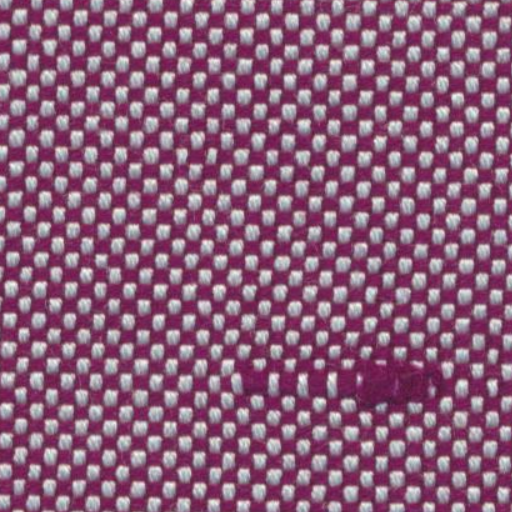DaiSha: (168, 346, 452, 414)
